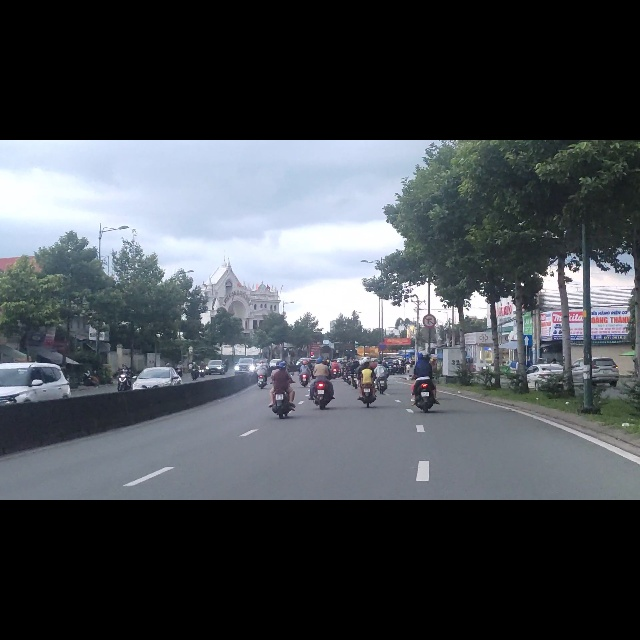bien_cam: (423, 310, 436, 335), (522, 345, 533, 366)
